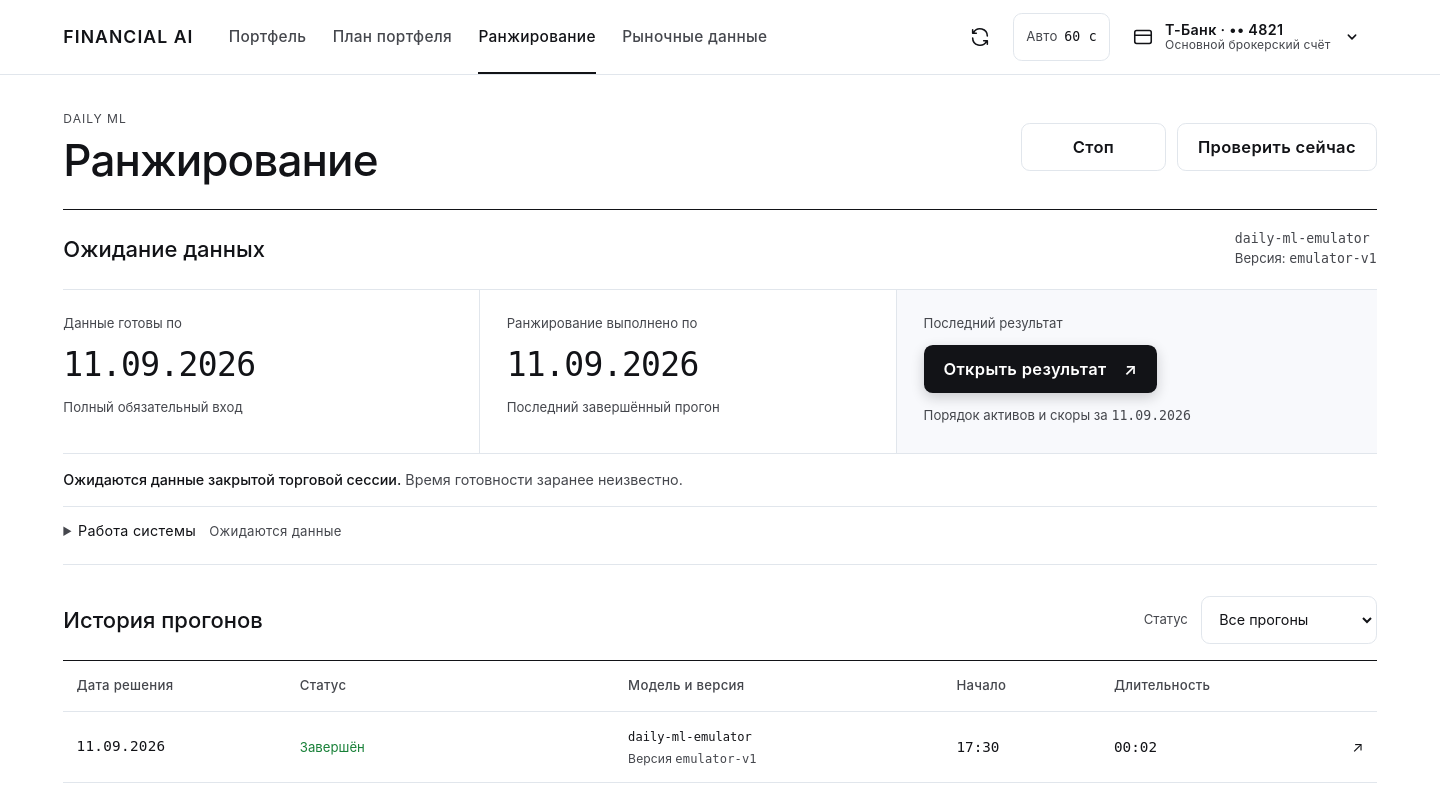
Test: следующий запуск › показывает время проверки и не показывает времени начала расчёта
Check: the heading "Ожидание данных" is shown, box [63, 236, 265, 262]
Click the text "Работа системы".
click(137, 530)  # box [78, 522, 196, 539]
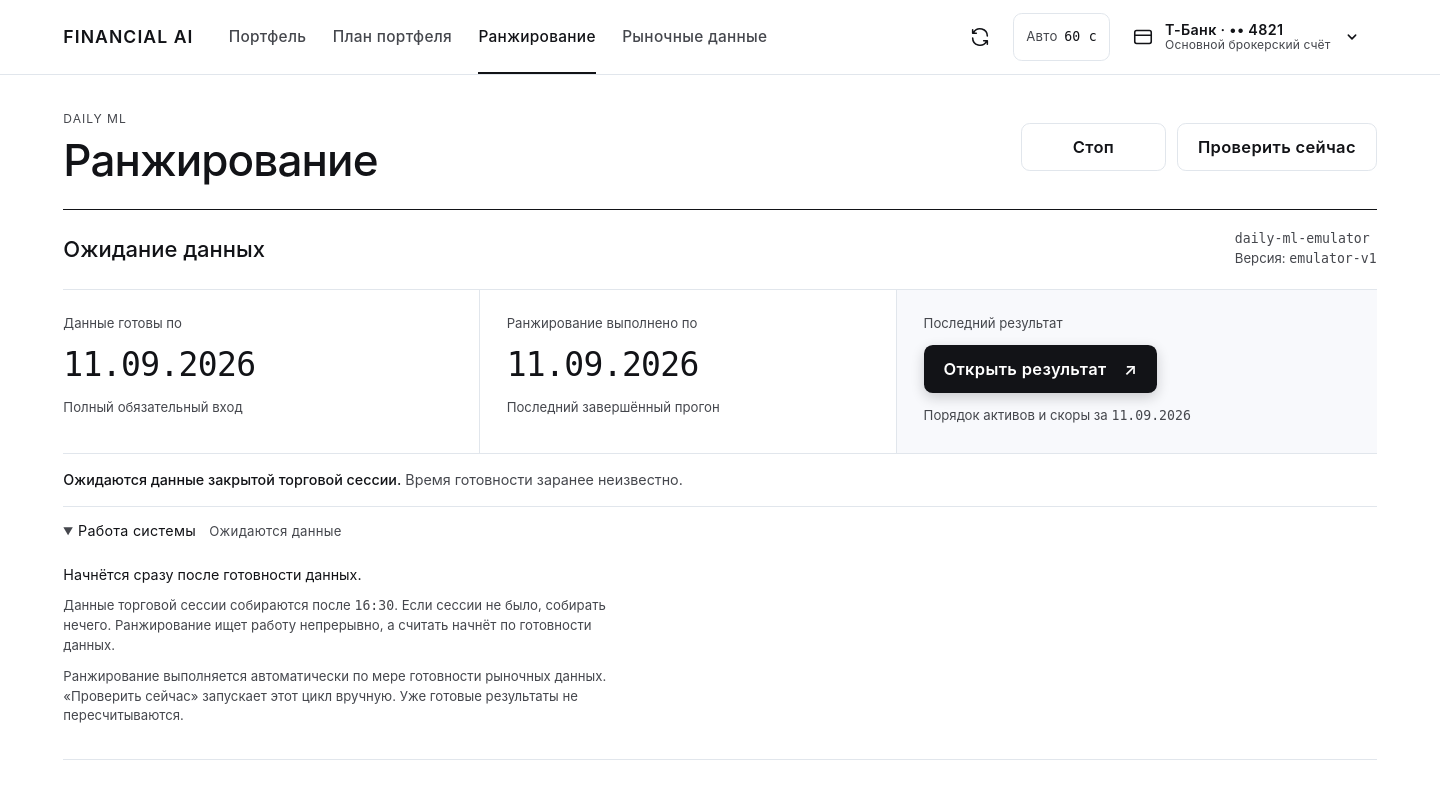
Check: the text "Данные торговой сессии собираются после" shows "16:30", box [354, 598, 394, 613]
Check: the text "Данные торговой сессии собираются после" shows "считать начнёт по готовности данных", box [63, 597, 606, 653]
Check: the text "Данные торговой сессии собираются после" shows "Если сессии не было, собирать нечего", box [63, 597, 606, 653]
